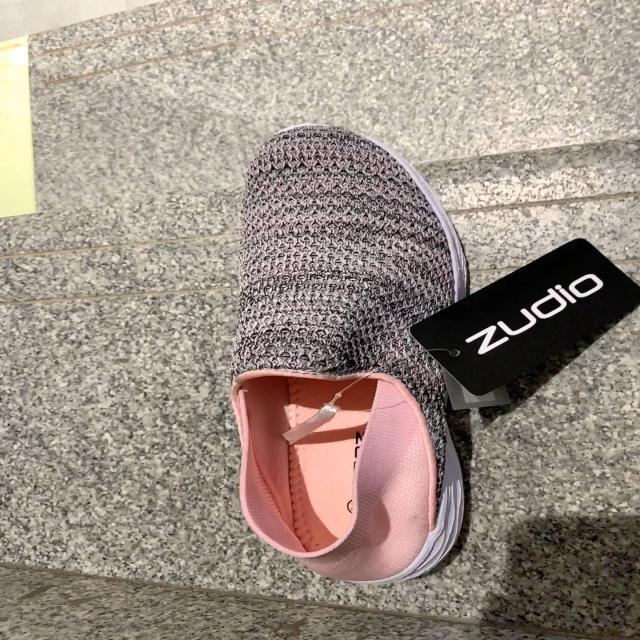shoe: (230, 125, 472, 587)
